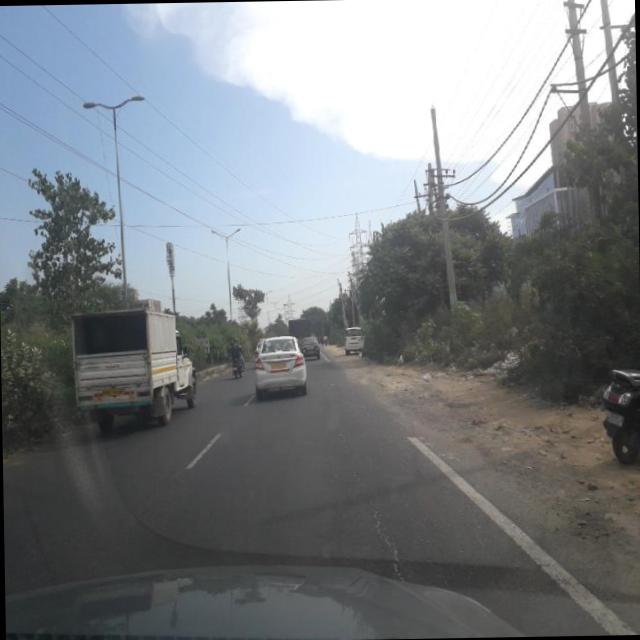pothole: (340, 423, 414, 582)
